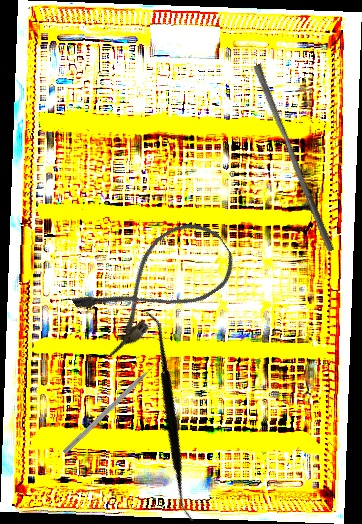Cannula: (68, 208, 245, 361)
Chopper: (62, 358, 167, 460)
Pusher: (246, 63, 342, 253)
Spatula Surgical: (66, 309, 272, 524)
